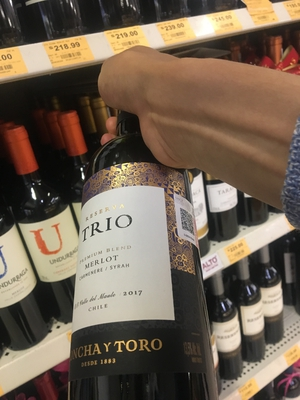trio merlot: (73, 82, 241, 400)
